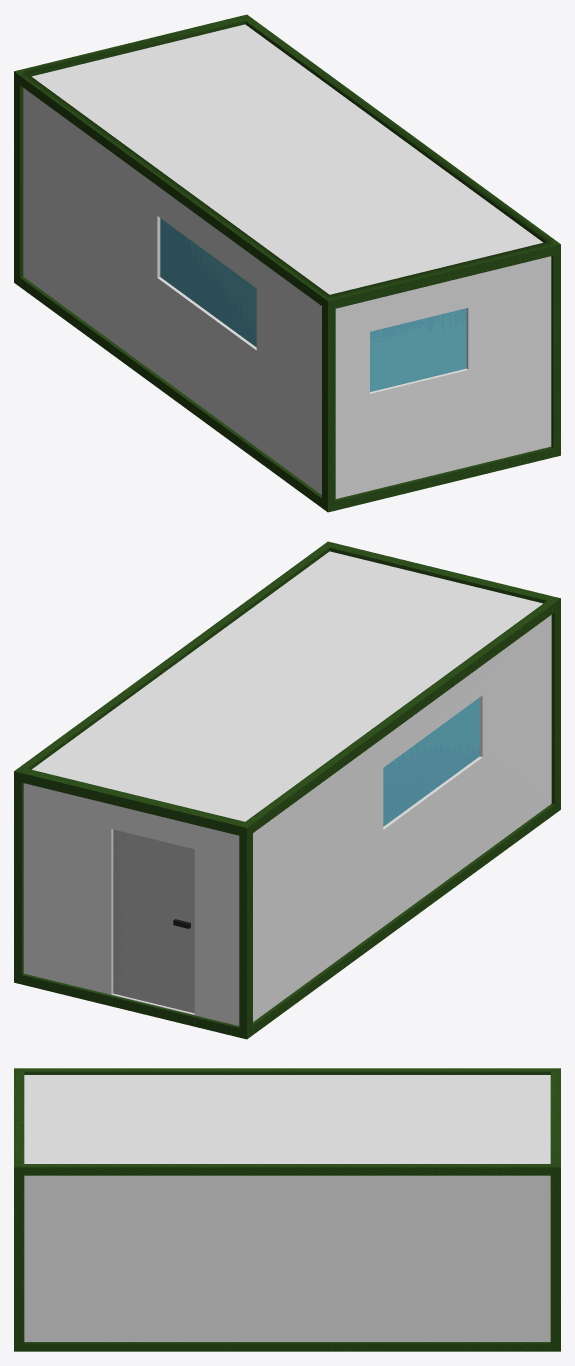
Rendered from container-office-green.glb.
3 views of the same model, one above another, from view 1: azimuth 30°, elevation 25°; view 2: azimuth 150°, elevation 25°; view 3: azimuth 270°, elevation 25° (orthographic). The views are drawn at different scales.
Parts seen in each view (by area): view 1: Office Container Single Green; view 2: Office Container Single Green; view 3: Office Container Single Green.
Boxes of the visible parts, box(x1,y1,x2,y2) form: Office Container Single Green: box(14, 14, 560, 512); Office Container Single Green: box(14, 541, 560, 1039); Office Container Single Green: box(14, 1068, 560, 1351).
Size of the model in its own units: 3 by 2.6 by 7.
1 material, 1 textured.
